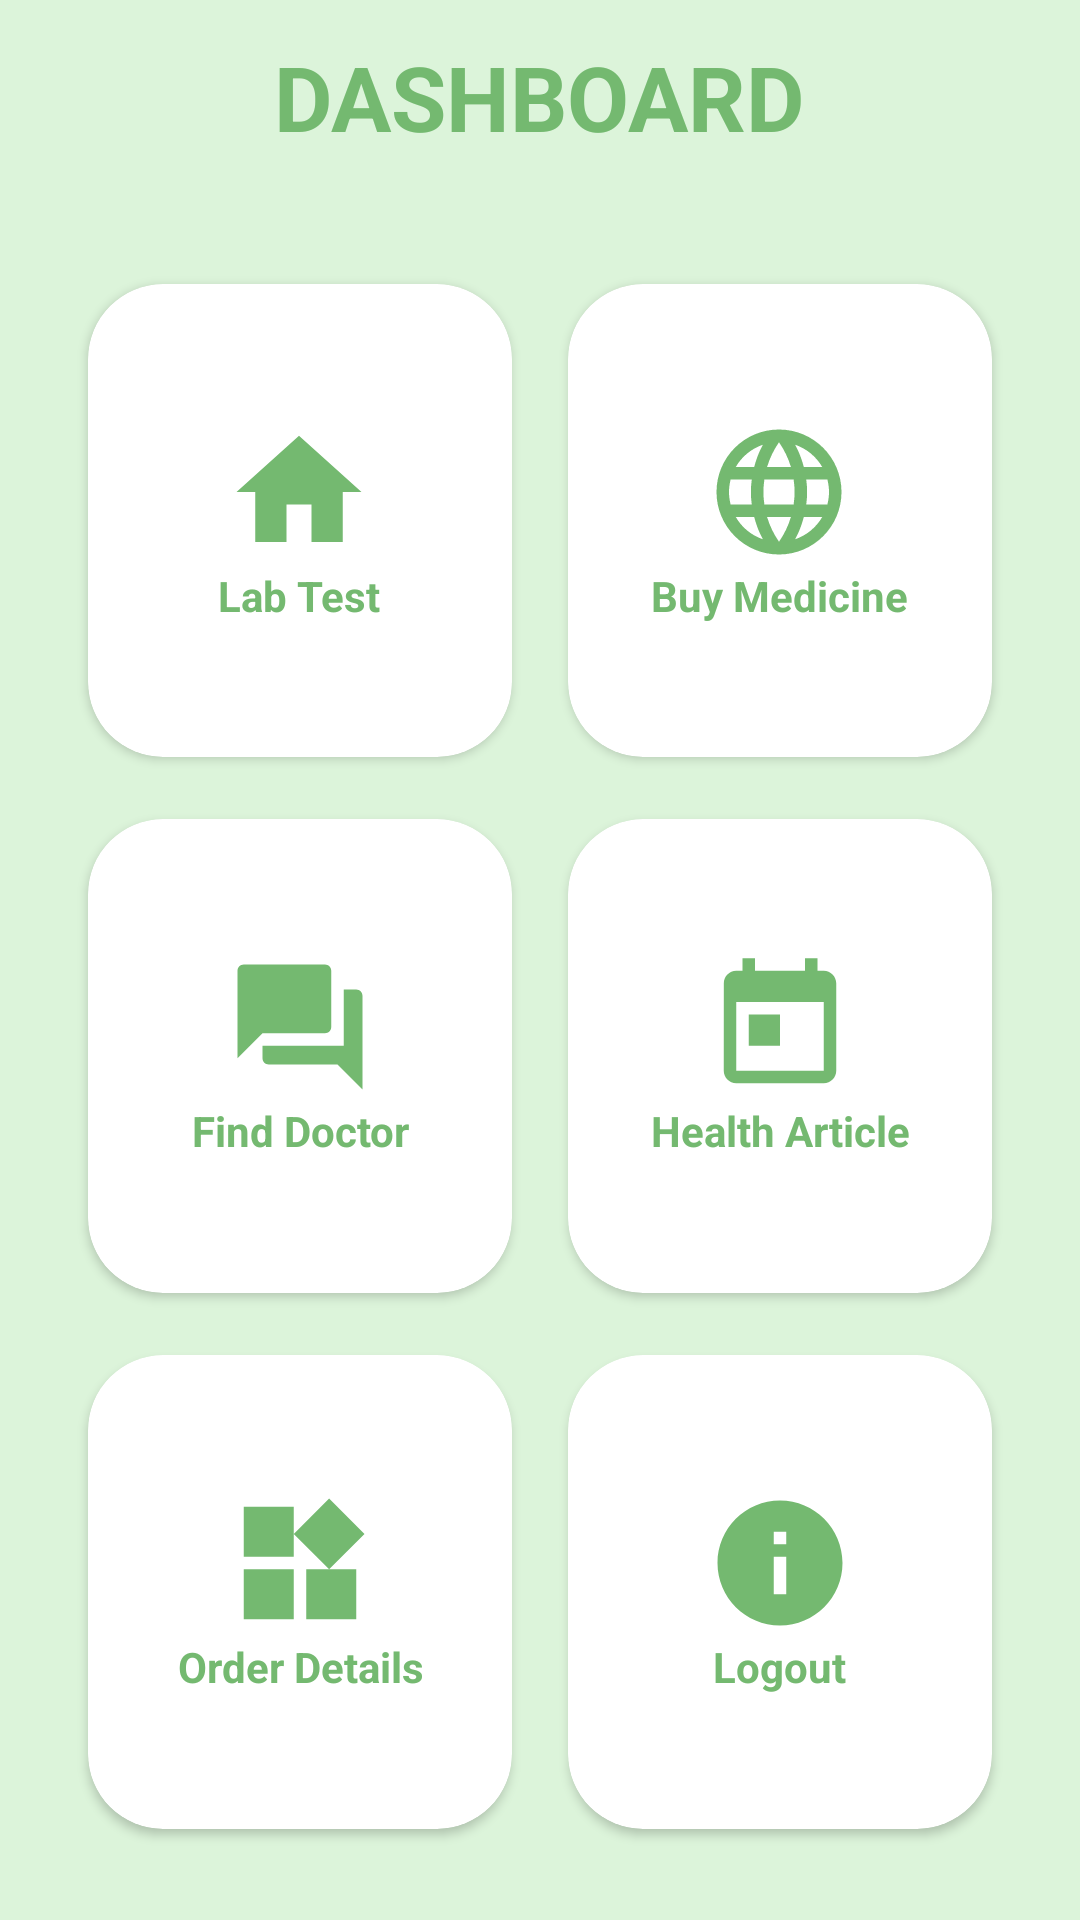

Icon click points for this 1080x1920 phone screenshot, format [x,y]:
calendar: [780,1021]
chat: [300,1026]
home: [299,489]
info: [780,1563]
language: [779,492]
widgets: [303,1559]
